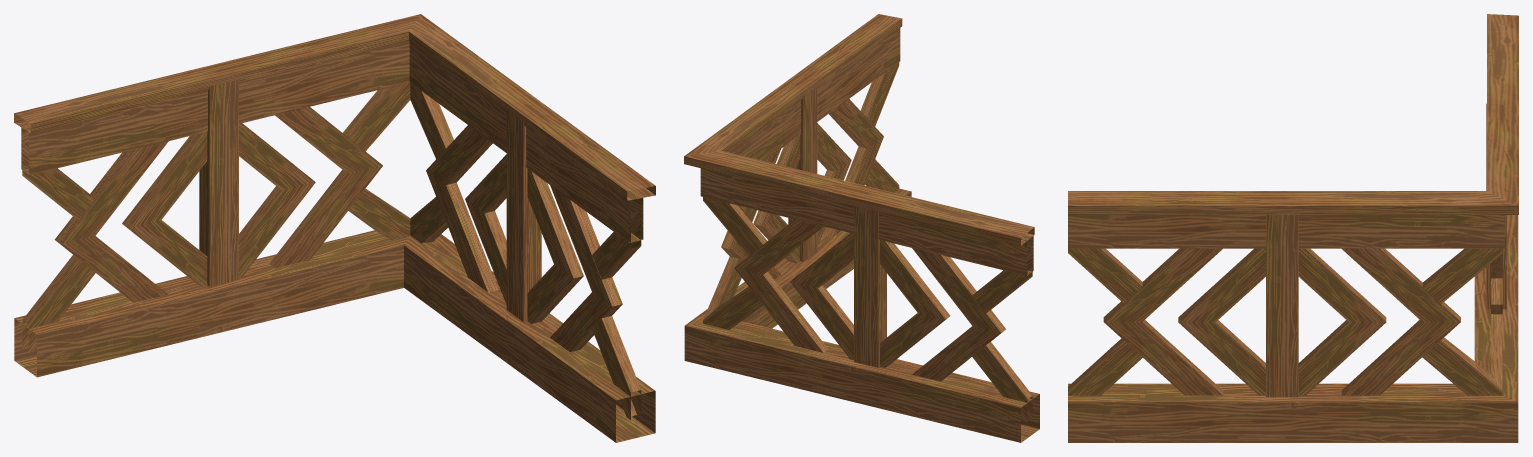
The model's file is Balcony_Cross_Corner.obj.
3 views of the same model, side by side, from view 1: azimuth 30°, elevation 25°; view 2: azimuth 150°, elevation 25°; view 3: azimuth 270°, elevation 25° (orthographic). The views are drawn at different scales.
Visible parts, largest first — view 1: Balcony_Cross_Corner; view 2: Balcony_Cross_Corner; view 3: Balcony_Cross_Corner.
Boxes of the visible parts, x1,y1,x2,y2 form: Balcony_Cross_Corner: [14, 14, 655, 442]; Balcony_Cross_Corner: [684, 14, 1039, 442]; Balcony_Cross_Corner: [1068, 14, 1518, 442].
Size of the model in its own units: 2.1 by 1.23 by 2.1.
